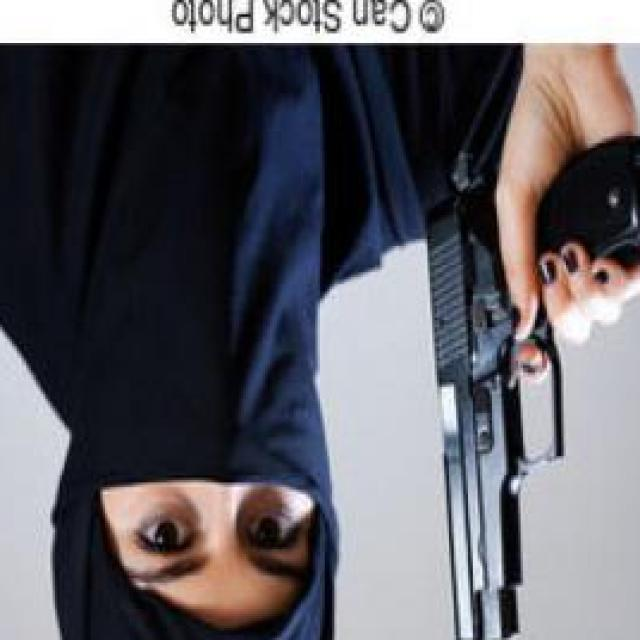pistol: (423, 129, 640, 640)
